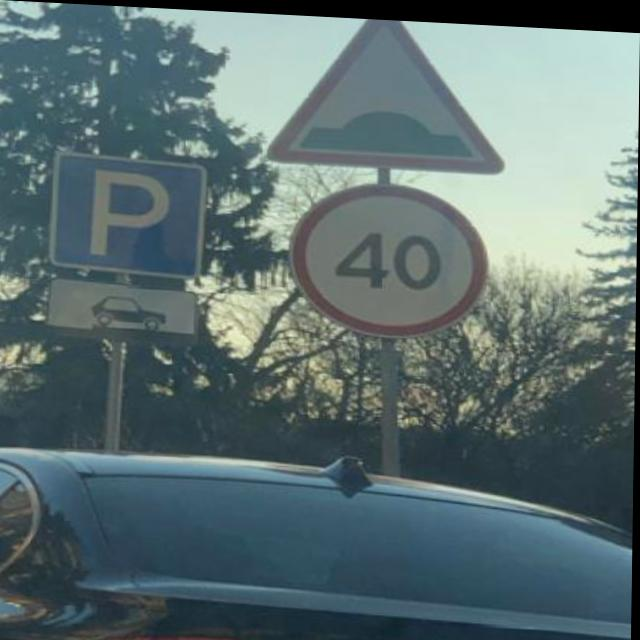limit40: (286, 169, 501, 339)
